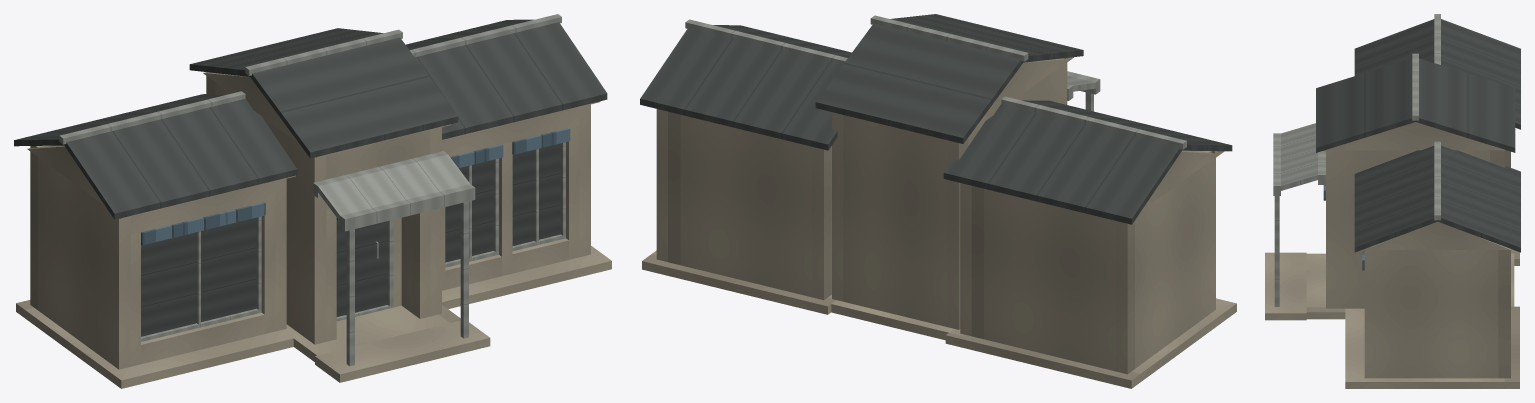
Rendered from lisbon.glb.
The picture shows the model from 3 angles, left to right: view 1: azimuth 30°, elevation 25°; view 2: azimuth 150°, elevation 25°; view 3: azimuth 270°, elevation 25°; orthographic projection. The views are drawn at different scales.
Parts seen in each view (by area): view 1: lisbon; view 2: lisbon; view 3: lisbon.
Part boxes in pixels (x1,y1,x2,y2): lisbon: (14,14,611,388); lisbon: (640,14,1236,388); lisbon: (1265,14,1520,388).
Bounding box in the file's own units: 7.78 × 3.7 × 4.18.
1 material, 1 textured.
